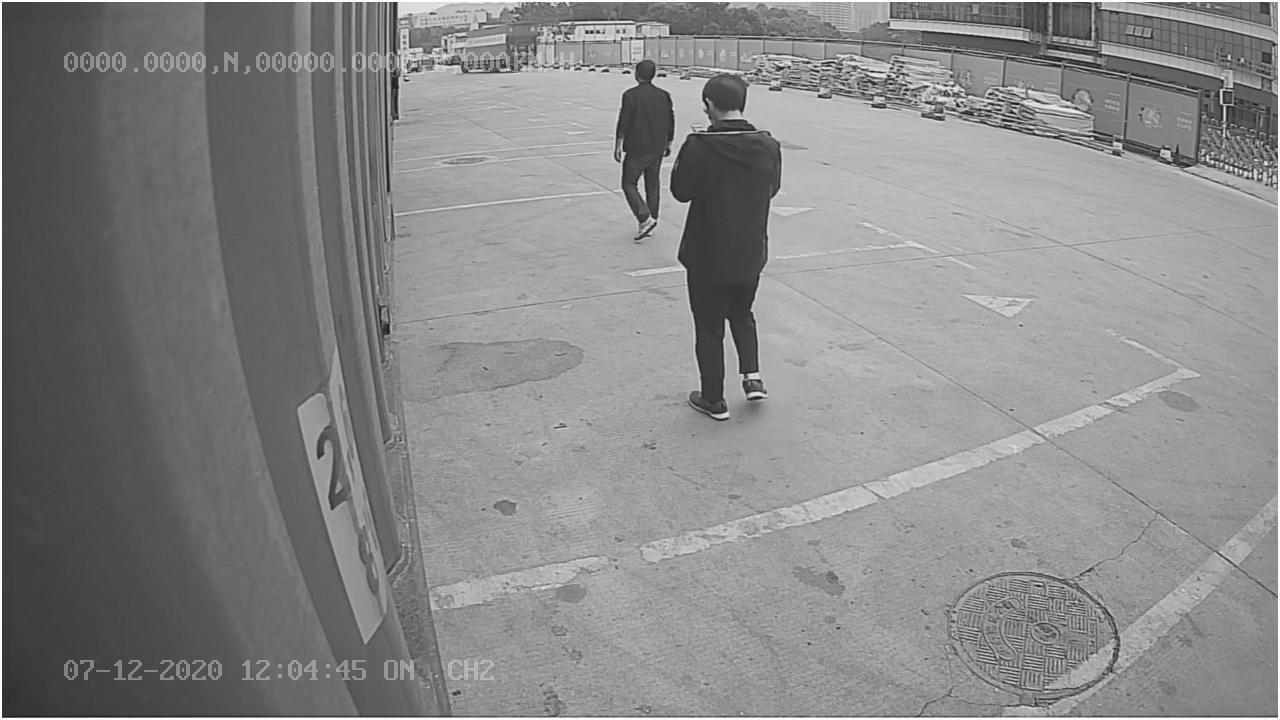person: (670, 65, 785, 423)
